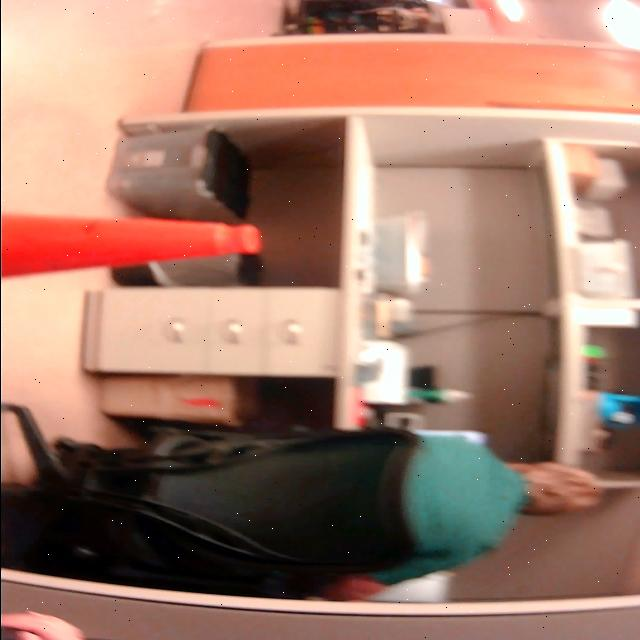traffic cone: (1, 209, 277, 287)
